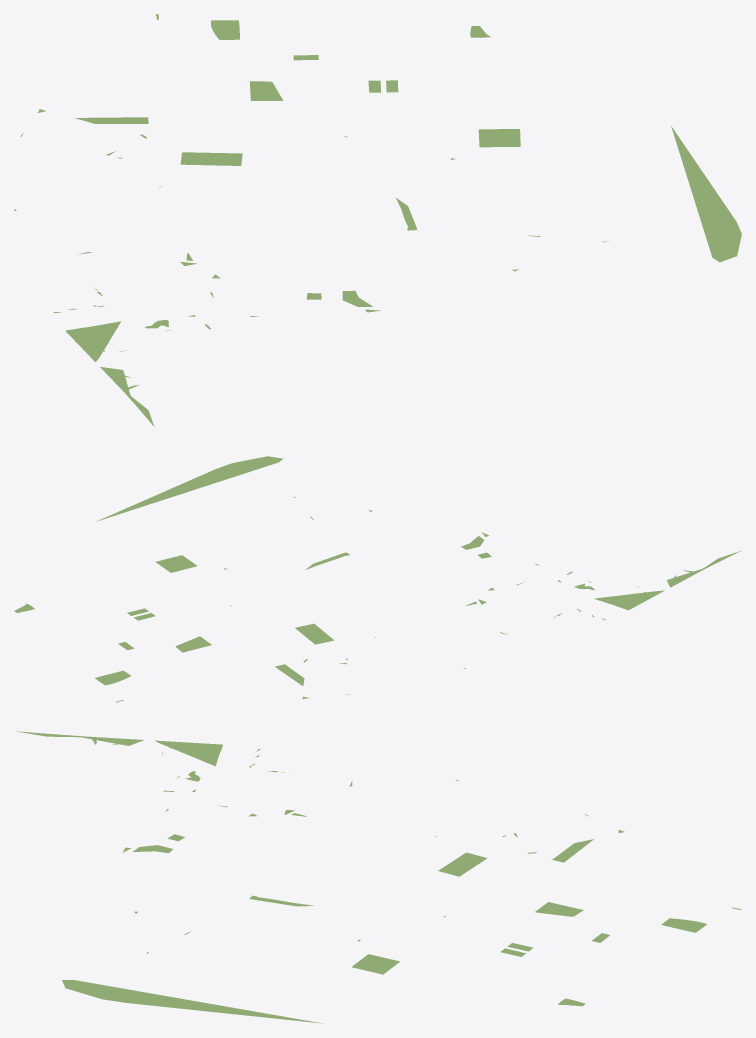
Rendered from park-grass.glb.
The picture shows the model from 3 angles, top to bottom: view 1: azimuth 30°, elevation 25°; view 2: azimuth 150°, elevation 25°; view 3: azimuth 270°, elevation 25°; orthographic projection. The views are drawn at different scales.
Parts seen in each view (by area): view 1: Mapped Manhattan park grass; view 2: Mapped Manhattan park grass; view 3: Mapped Manhattan park grass.
Boxes of the visible parts, bbox=[...] form: Mapped Manhattan park grass: bbox=[14, 14, 741, 426]; Mapped Manhattan park grass: bbox=[14, 456, 741, 702]; Mapped Manhattan park grass: bbox=[16, 731, 741, 1023].
Bounding box in the file's own units: 3931 × 0 × 4133.
